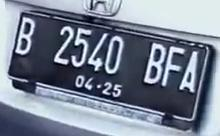0: (101, 32, 128, 79)
2: (49, 21, 78, 69)
4: (85, 29, 111, 75)
5: (68, 27, 94, 72)
A: (176, 49, 204, 98)
B: (139, 39, 170, 92), (13, 14, 42, 60)
F: (160, 43, 191, 92)
